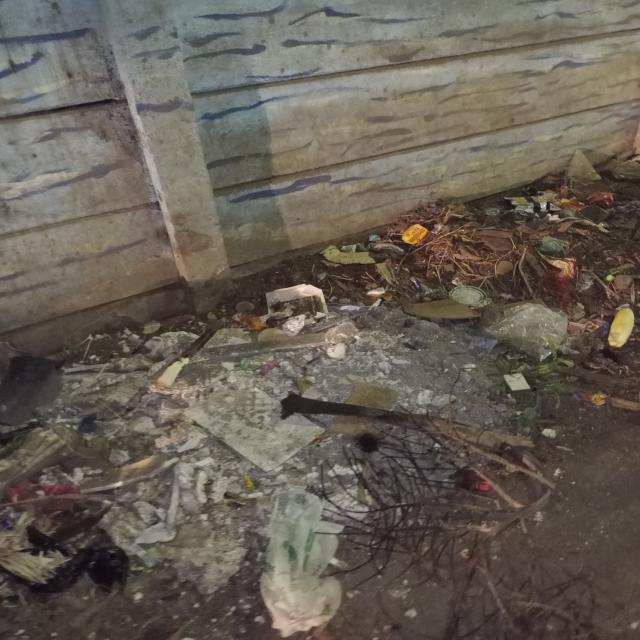garbage: (38, 290, 574, 616)
